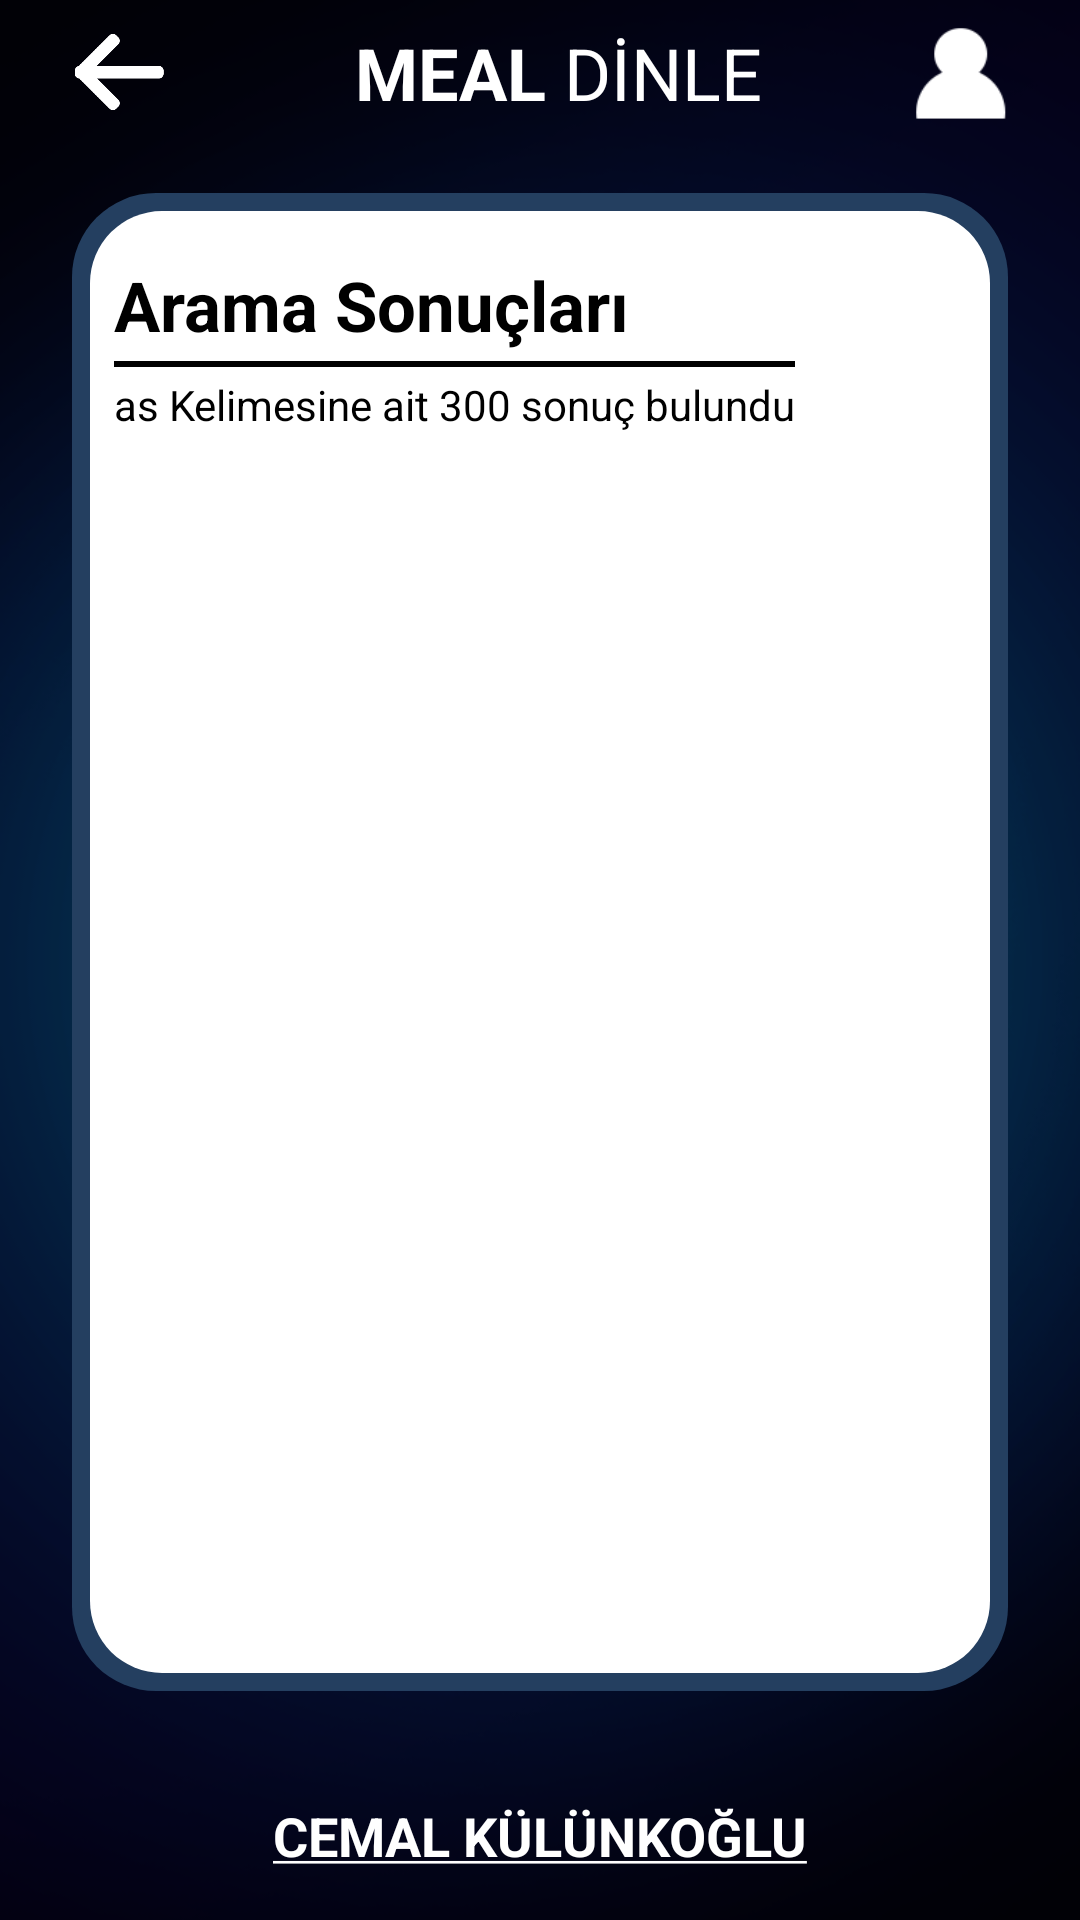

Icon bounding boxes for this 1080px×1920px phone screenshot, format {"x1": x1, "y1": y1, "x2": x2, "y2": y2}:
back: {"x1": 75, "y1": 34, "x2": 164, "y2": 110}
user: {"x1": 916, "y1": 28, "x2": 1006, "y2": 119}
